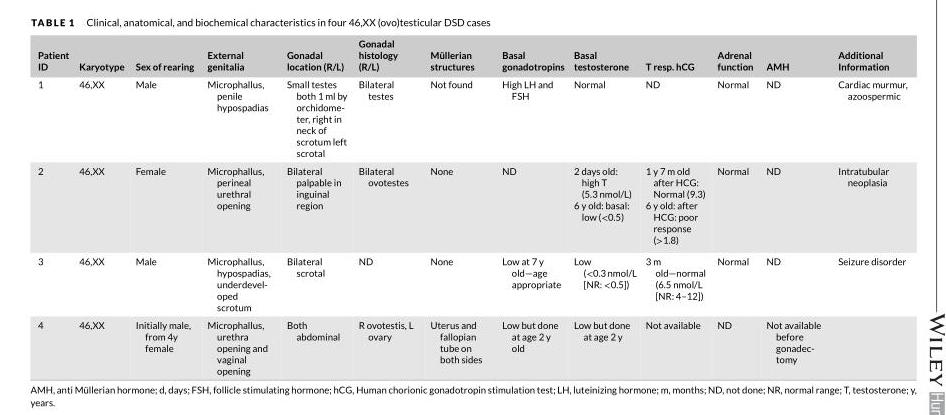table: (38, 37, 907, 375)
table column: (200, 37, 278, 375), (829, 37, 907, 375), (492, 37, 569, 375), (278, 37, 353, 375), (569, 37, 641, 375), (130, 37, 200, 375), (422, 37, 492, 375), (641, 37, 711, 375), (759, 37, 829, 375), (353, 37, 422, 375), (74, 37, 130, 375), (711, 37, 759, 375), (38, 37, 74, 375)
table column header: (38, 37, 907, 74)
table row: (38, 161, 907, 251), (38, 74, 907, 161), (38, 251, 907, 315), (38, 315, 907, 375), (38, 37, 907, 74)
